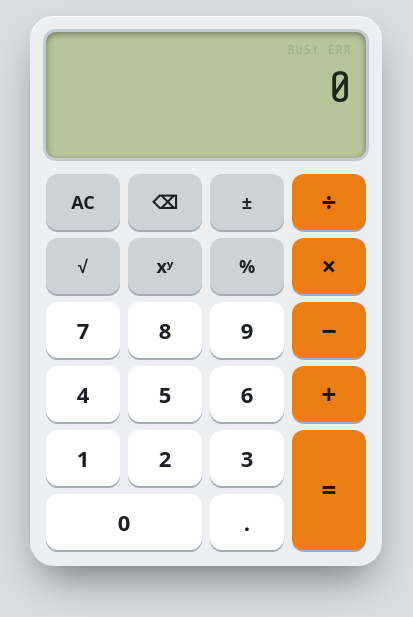
Test case: App › errors › shows a friendly message and keeps the input
This screenshot has width=413, height=617.
Click the button "1" at coordinates (83, 458), box [46,430,120,486]
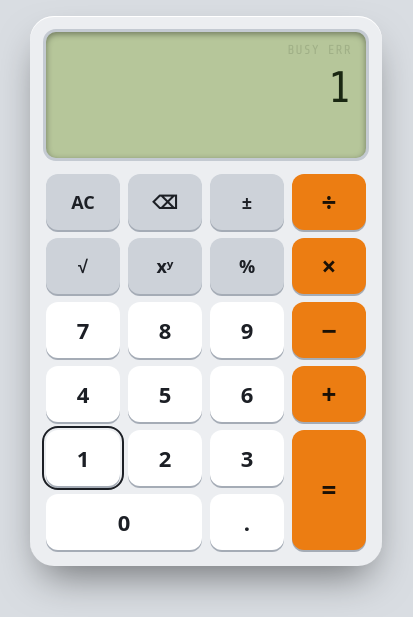
Click the button named "Divide" at coordinates (329, 202), box [292,174,366,230]
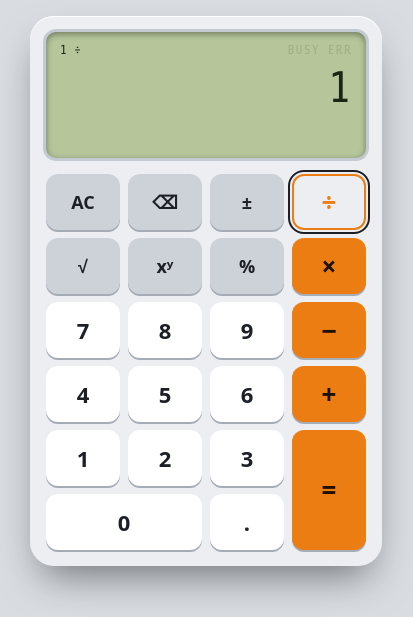
Click the button "0" at coordinates (124, 522), box [46,494,202,550]
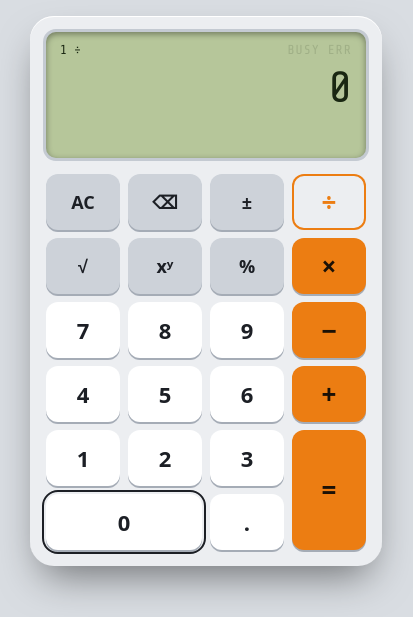
Click the button named "Equals" at coordinates (329, 490), box [292,430,366,550]
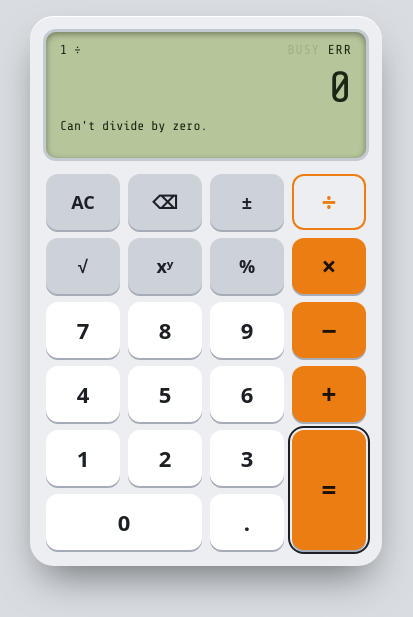
expect the text "1 ÷" is shown: met, box [60,42,81,62]
expect the message reads "Can't divide by zero.": met, box [60,118,207,133]
